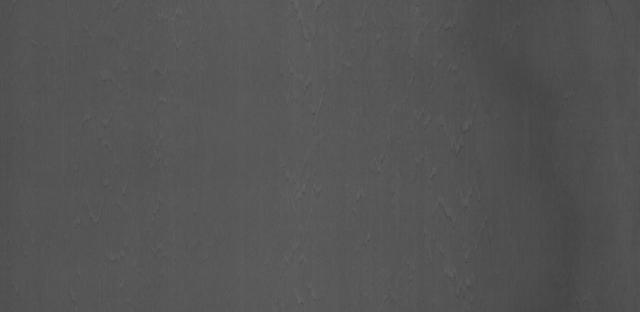silk_spot: (397, 100, 507, 178), (407, 193, 502, 271), (268, 19, 360, 94)
